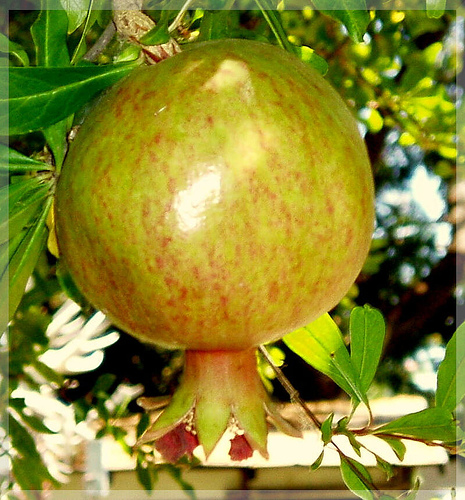pomogranate: (50, 37, 375, 460)
